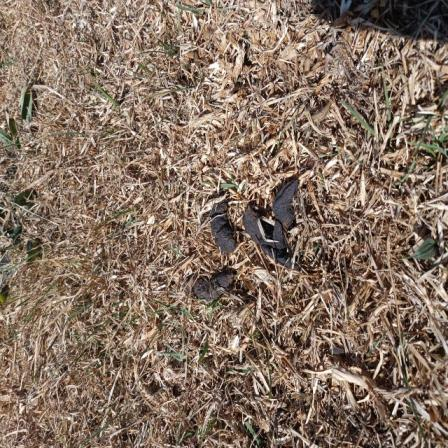dog-poop: (199, 174, 309, 272)
